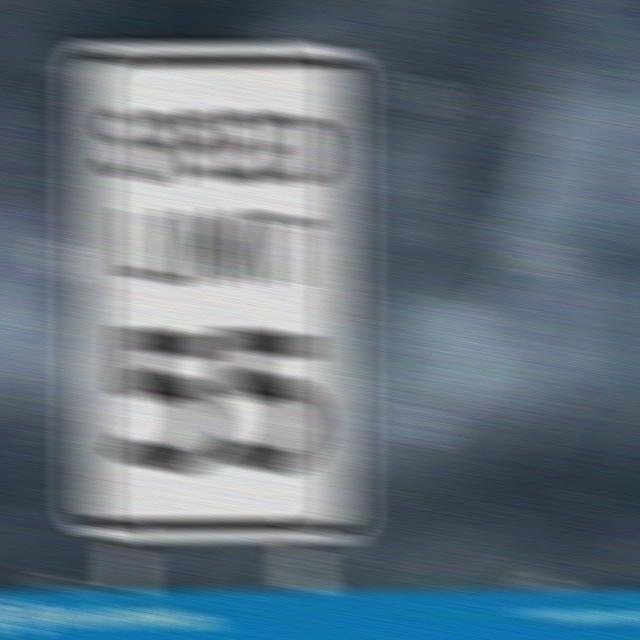speedLimit55: (69, 31, 363, 542)
